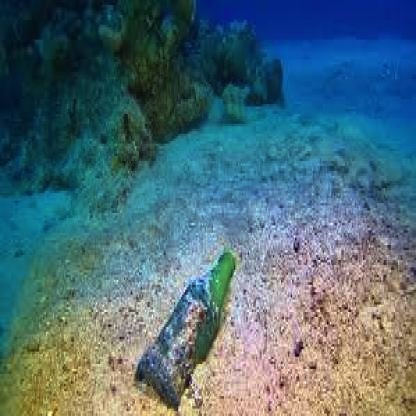gbottle: (134, 250, 236, 406)
